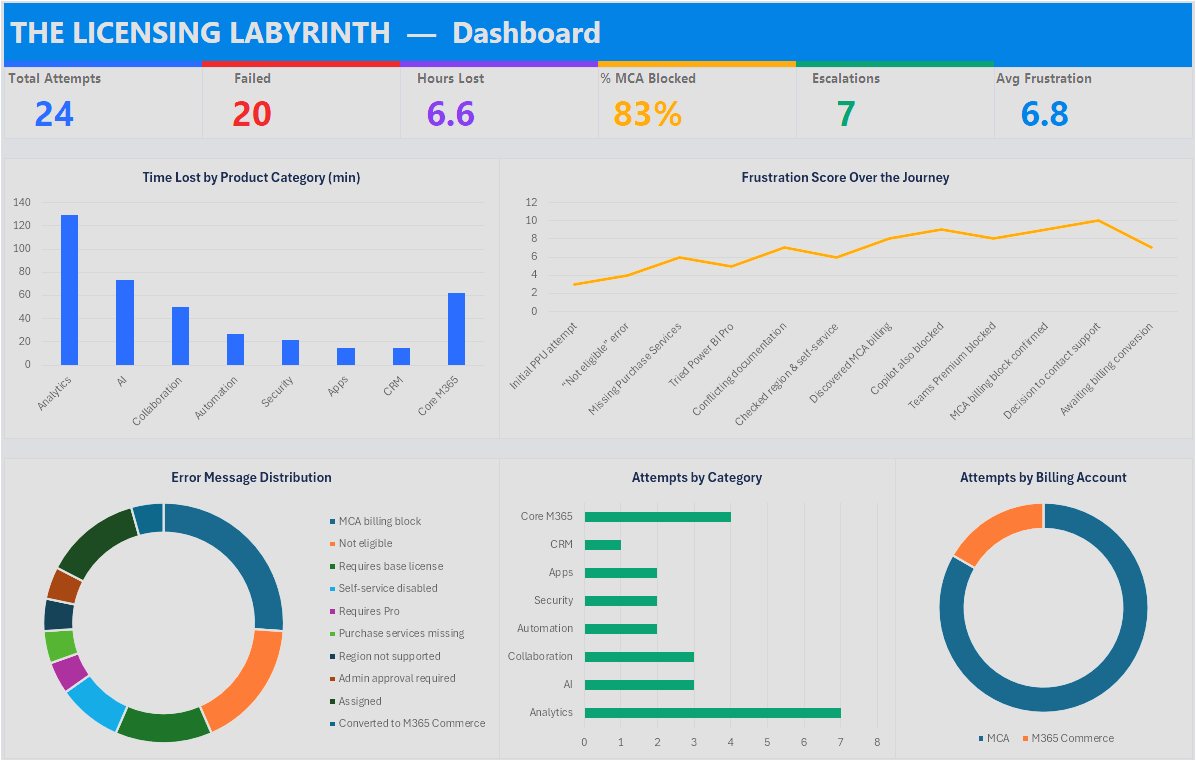

Layout of this report page (visuals, bound fields, positions):
{"tool":"powerbi","page":{"name":"The Licensing Labyrinth ","canvas":[1280,720],"ordinal":0},"visuals":[{"type":"cardVisual","fields":{"Data":["CountNonNull(licensing_attempts.attempt_id)"]},"box":[44.2,0,200.3,147.8],"z":0},{"type":"cardVisual","fields":{"Data":["CountNonNull(licensing_attempts.attempt_id)"]},"box":[244.6,0,199.5,150.3],"z":1000},{"type":"cardVisual","fields":{"Data":["Sum(licensing_attempts.time_lost_min)"]},"box":[449.1,0,200.3,150.3],"z":2000},{"type":"cardVisual","fields":{"Data":["CountNonNull(licensing_attempts.support_contacted)"]},"box":[650.3,0,199.5,149.4],"z":3000},{"type":"cardVisual","fields":{"Data":["Avg(frustration_scores.frustration_score)"]},"box":[1049.3,0.8,199.5,149.4],"z":4000},{"type":"cardVisual","fields":{"Data":["frustration_scores.Pct MCA"]},"box":[849.8,0,199.5,150.3],"z":5000},{"type":"clusteredBarChart","fields":{"Category":["licensing_attempts.category"],"Y":["Sum(licensing_attempts.time_lost_min)"]},"box":[48,144,496,288],"z":6000},{"type":"lineChart","fields":{"Y":["Sum(frustration_scores.frustration_score)"],"Category":["frustration_scores.step_order"]},"box":[552,152,696,280],"z":7000},{"type":"donutChart","fields":{"Category":["licensing_attempts.error_message"],"Y":["CountNonNull(licensing_attempts.attempt_id)"]},"box":[56,432,496,240],"z":8000},{"type":"clusteredBarChart","fields":{"Category":["licensing_attempts.category"],"Y":["CountNonNull(licensing_attempts.attempt_id)"]},"box":[552,432,696,240],"z":9000},{"type":"textbox","box":[294.7,0,674.5,43.4],"z":10000},{"type":"slicer","fields":{"Values":["licensing_attempts.category"]},"box":[56,664,304,56],"z":10001},{"type":"slicer","fields":{"Values":["licensing_attempts.result"]},"box":[360,664,296,56],"z":10002},{"type":"slicer","fields":{"Values":["licensing_attempts.billing_account"]},"box":[648,664,296,56],"z":10003},{"type":"slicer","fields":{"Values":["licensing_attempts.support_contacted"]},"box":[944,664,296,56],"z":10004}]}

Visuals, with their boxes on the page's 1280x720 design canvas (x1, y1, x2, y2). These are canvas units, not pixel positions in the 1196x761 screenshot, which may show the page scaled, cropped or inside an application window:
cardVisual - CountNonNull(licensing_attempts.attempt_id): (44,0,244,148)
cardVisual - CountNonNull(licensing_attempts.attempt_id): (245,0,444,150)
cardVisual - Sum(licensing_attempts.time_lost_min): (449,0,649,150)
cardVisual - CountNonNull(licensing_attempts.support_contacted): (650,0,850,149)
cardVisual - Avg(frustration_scores.frustration_score): (1049,1,1249,150)
cardVisual - frustration_scores.Pct MCA: (850,0,1049,150)
clusteredBarChart - licensing_attempts.category x Sum(licensing_attempts.time_lost_min): (48,144,544,432)
lineChart - Sum(frustration_scores.frustration_score) x frustration_scores.step_order: (552,152,1248,432)
donutChart - licensing_attempts.error_message x CountNonNull(licensing_attempts.attempt_id): (56,432,552,672)
clusteredBarChart - licensing_attempts.category x CountNonNull(licensing_attempts.attempt_id): (552,432,1248,672)
textbox: (295,0,969,43)
slicer - licensing_attempts.category: (56,664,360,720)
slicer - licensing_attempts.result: (360,664,656,720)
slicer - licensing_attempts.billing_account: (648,664,944,720)
slicer - licensing_attempts.support_contacted: (944,664,1240,720)
